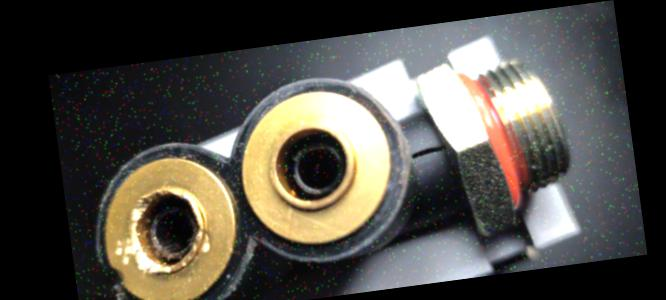bump: (106, 278, 136, 300)
craze: (412, 142, 446, 160)
off-centered: (284, 136, 350, 199)
